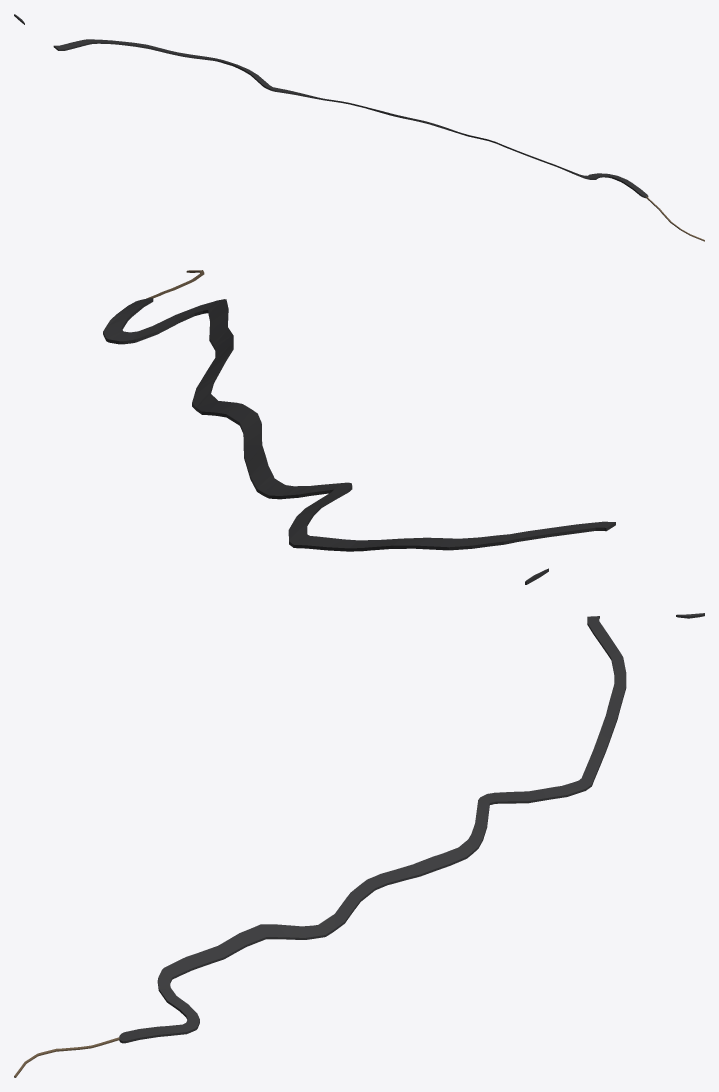
The model's file is 16-54707-29721.704cda65.glb.
3 views of the same model, one above another, from view 1: azimuth 30°, elevation 25°; view 2: azimuth 150°, elevation 25°; view 3: azimuth 270°, elevation 25° (orthographic). The views are drawn at different scales.
Size of the model in its own units: 336 by 105 by 353.
